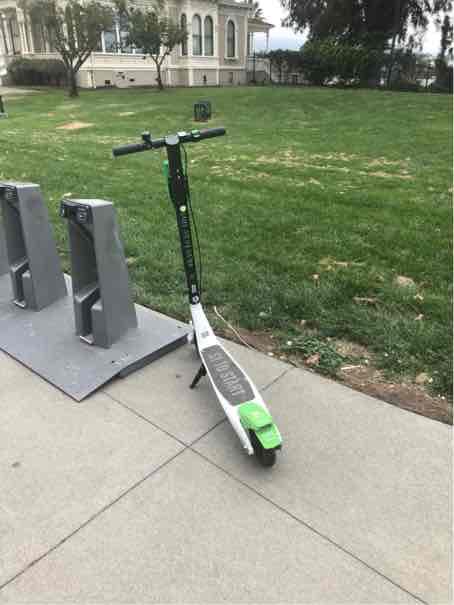scooter: (108, 118, 304, 472)
